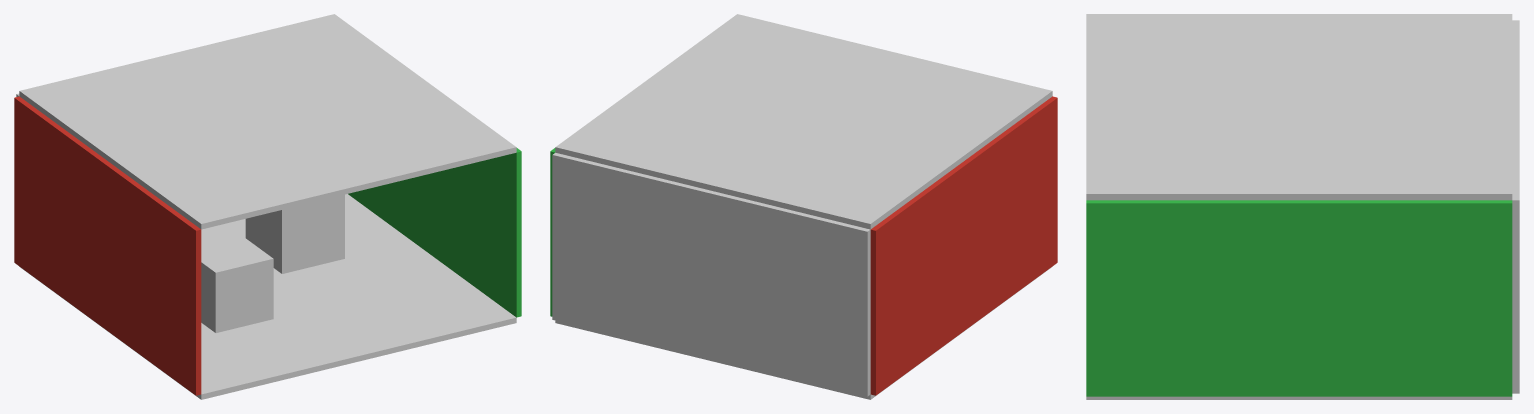
File: room.gltf
The picture shows the model from 3 angles, left to right: view 1: azimuth 30°, elevation 25°; view 2: azimuth 150°, elevation 25°; view 3: azimuth 270°, elevation 25°; orthographic projection. The views are drawn at different scales.
Visible parts, largest first — view 1: ceiling, red-wall, floor, green-wall, short-box, tall-box; view 2: ceiling, back, red-wall, floor, green-wall; view 3: green-wall, ceiling, back, floor.
Boxes of the visible parts, x1,y1,x2,y2 form: ceiling: [19, 14, 516, 229]; red-wall: [14, 96, 201, 395]; floor: [19, 194, 516, 399]; green-wall: [348, 148, 521, 317]; short-box: [201, 234, 273, 332]; tall-box: [245, 194, 344, 273]; ceiling: [555, 14, 1052, 229]; back: [552, 152, 870, 396]; red-wall: [870, 96, 1057, 395]; floor: [555, 266, 1052, 399]; green-wall: [550, 148, 555, 316]; green-wall: [1086, 200, 1512, 396]; ceiling: [1086, 14, 1512, 200]; back: [1512, 20, 1519, 393]; floor: [1086, 396, 1512, 399].
Bounding box in the file's own units: 6.2 × 3.2 × 6.1.
